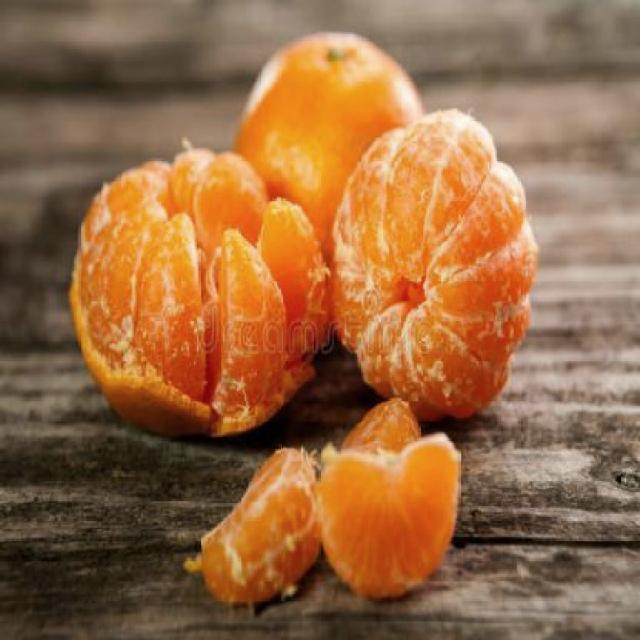Jeruk Sudah Matang: (229, 25, 431, 322)
